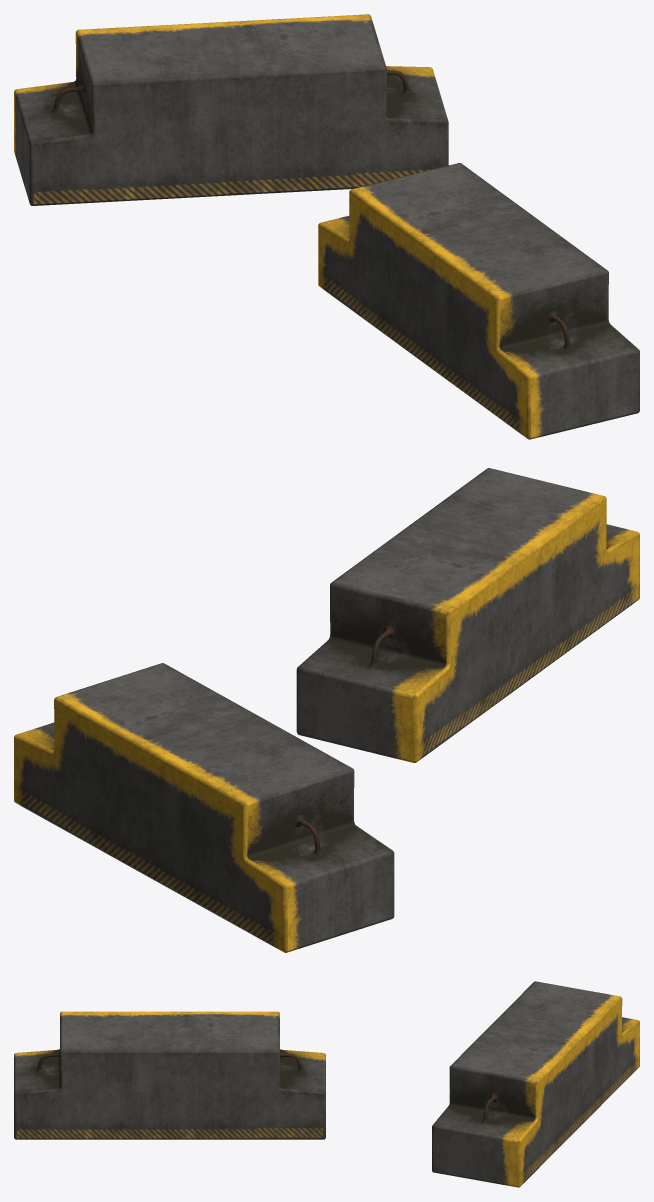
File: street_barrier_-_5mb.glb
The picture shows the model from 3 angles, top to bottom: view 1: azimuth 30°, elevation 25°; view 2: azimuth 150°, elevation 25°; view 3: azimuth 270°, elevation 25°; orthographic projection. The views are drawn at different scales.
Visible parts, largest first — view 1: Street_Barrier_1, Street_Barrier; view 2: Street_Barrier_1, Street_Barrier; view 3: Street_Barrier, Street_Barrier_1.
Boxes of the visible parts, x1,y1,x2,y2 form: Street_Barrier_1: (14, 14, 448, 205); Street_Barrier: (318, 163, 639, 439); Street_Barrier_1: (14, 663, 394, 952); Street_Barrier: (296, 468, 639, 762); Street_Barrier: (14, 1011, 325, 1139); Street_Barrier_1: (432, 981, 639, 1187).
Size of the model in its own units: 231 by 69.88 by 446.
2 materials, 2 textured.
